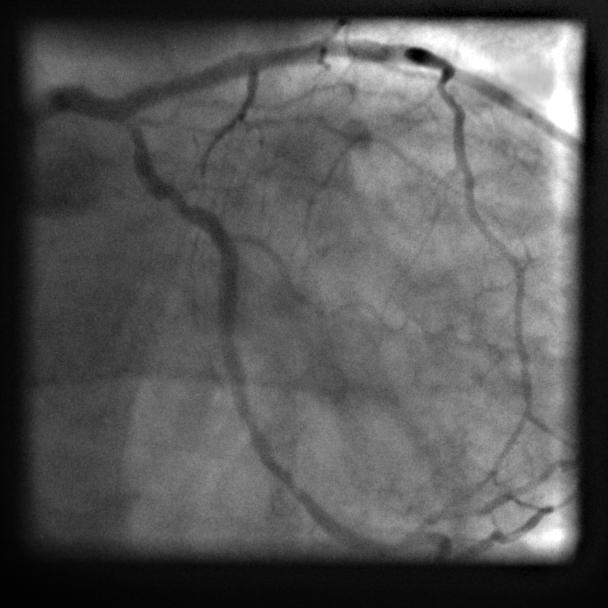Stenosis: (170, 188, 191, 210)
